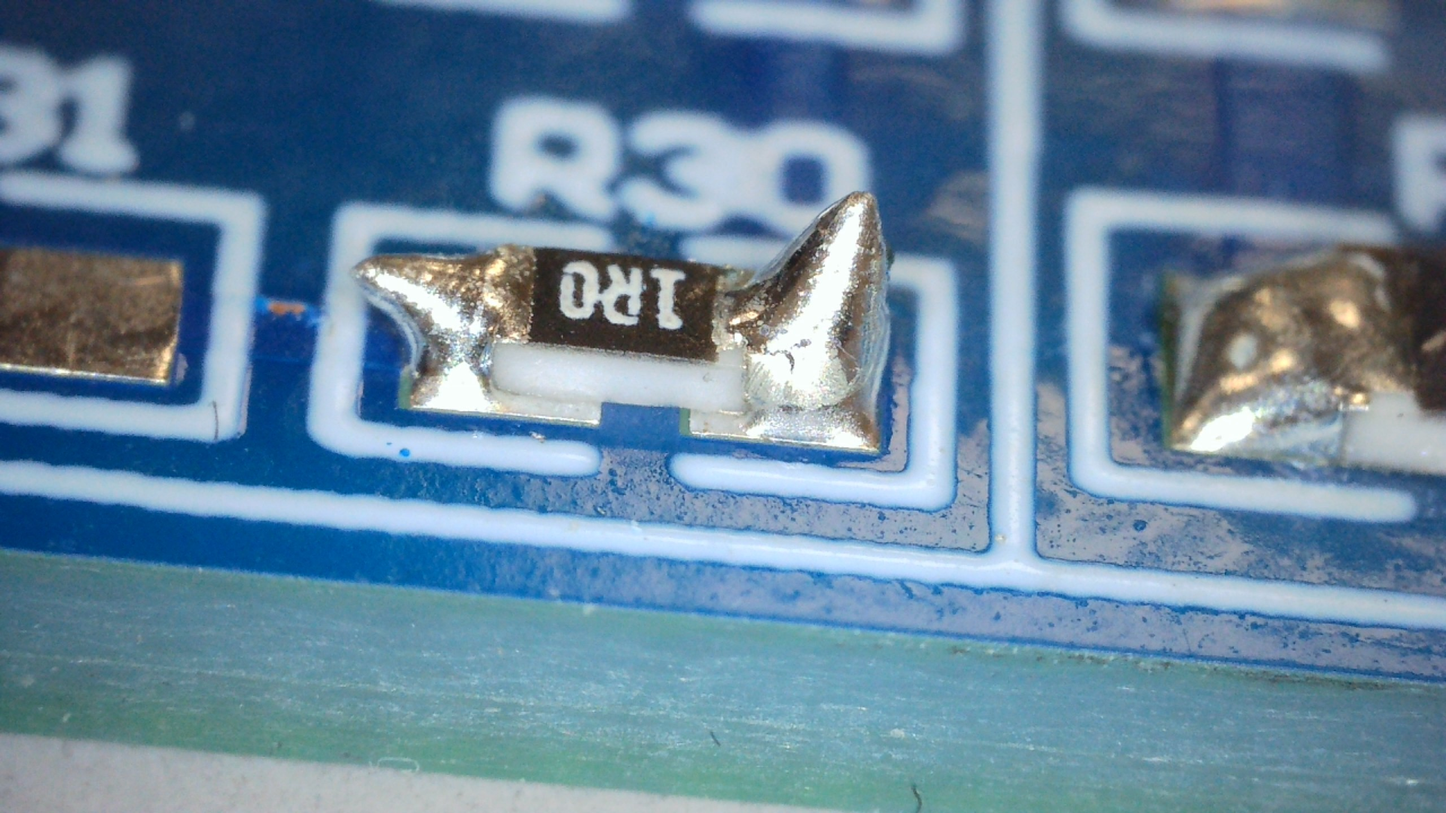NG: (725, 189, 891, 446), (349, 252, 507, 414)
